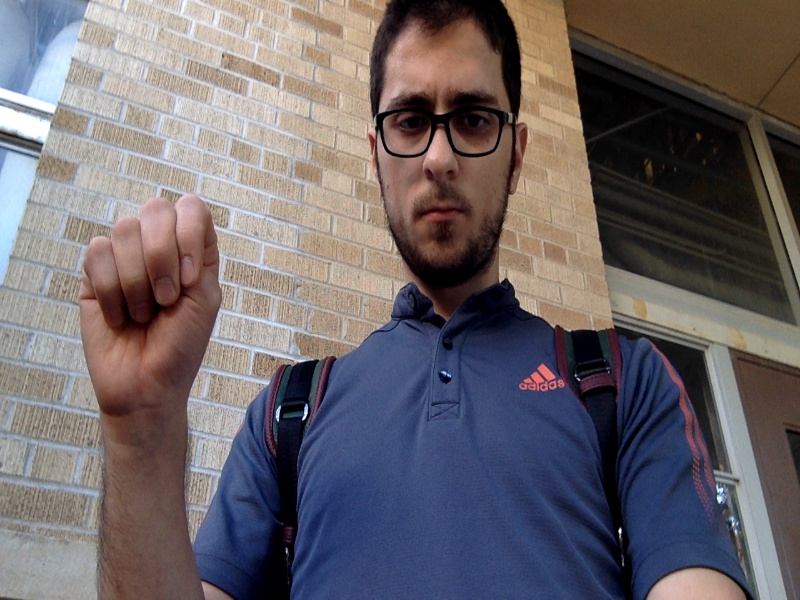0-hand: (78, 196, 220, 417)
